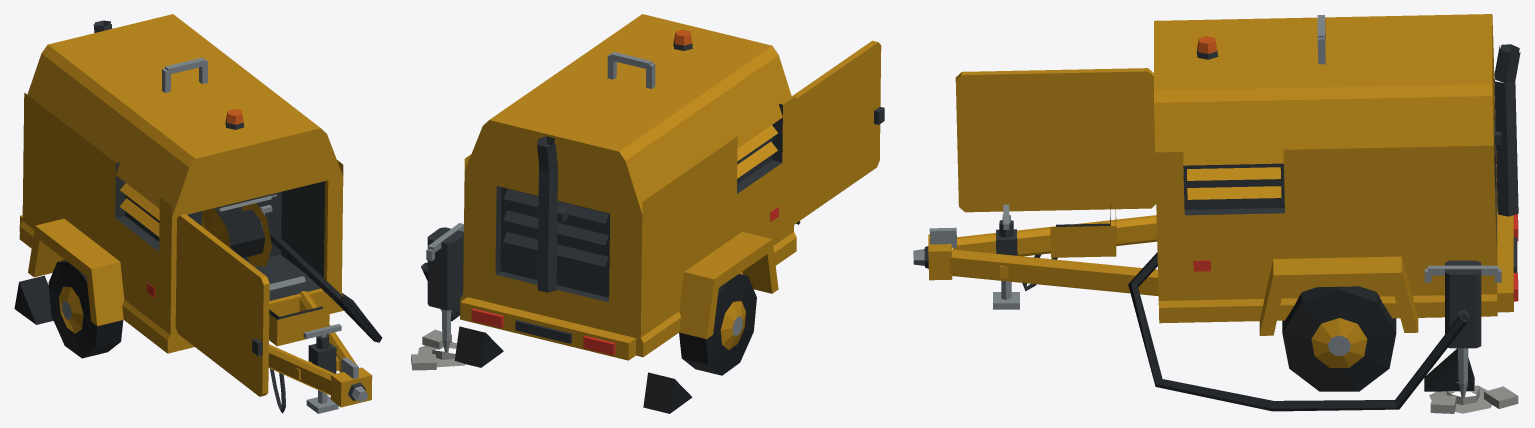
The model's file is towed-air-compressor-11f9ea.glb.
3 renders of one model, left to right at view 1: azimuth 30°, elevation 25°; view 2: azimuth 150°, elevation 25°; view 3: azimuth 270°, elevation 25°, orthographic. The views are drawn at different scales.
Visible parts, largest first — view 1: compressor, wheel-l-mesh, reel-mesh, ground-kit, chocks-mesh, cable-mesh; view 2: compressor, wheel-l-mesh, breaker-mesh, chocks-mesh, ground-kit; view 3: compressor, wheel-r-mesh, ground-kit, breaker-mesh, chocks-mesh.
Part boxes in pixels (left/top/right/bottom): compressor: left=19, top=14, right=372, bottom=407; wheel-l-mesh: left=48, top=260, right=123, bottom=358; reel-mesh: left=201, top=203, right=272, bottom=266; ground-kit: left=268, top=226, right=382, bottom=413; chocks-mesh: left=14, top=275, right=53, bottom=324; cable-mesh: left=270, top=368, right=285, bottom=413; compressor: left=460, top=14, right=884, bottom=360; wheel-l-mesh: left=679, top=273, right=756, bottom=375; breaker-mesh: left=423, top=223, right=463, bottom=352; chocks-mesh: left=454, top=326, right=692, bottom=413; ground-kit: left=411, top=263, right=465, bottom=370; compressor: left=913, top=14, right=1520, bottom=335; wheel-r-mesh: left=1282, top=286, right=1396, bottom=391; ground-kit: left=993, top=204, right=1518, bottom=413; breaker-mesh: left=1424, top=260, right=1501, bottom=397; chocks-mesh: left=1424, top=348, right=1474, bottom=391.
Size of the model in its own units: 1.5 by 1.46 by 2.6.
